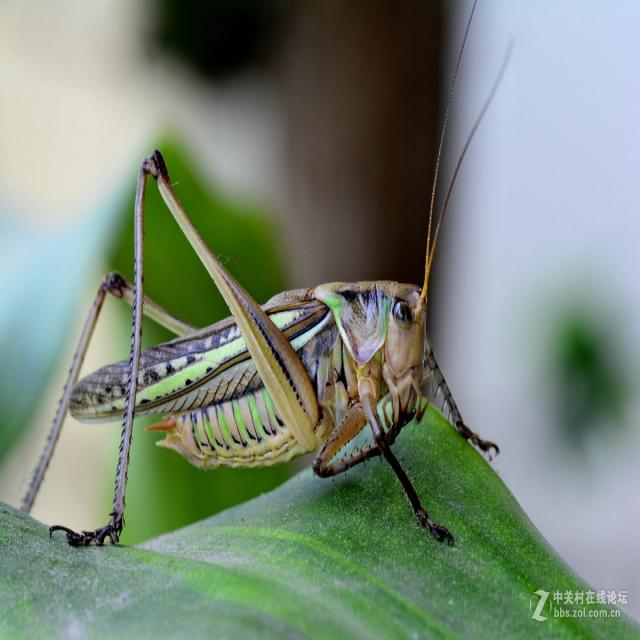ZhaMeng: (50, 155, 482, 504)
